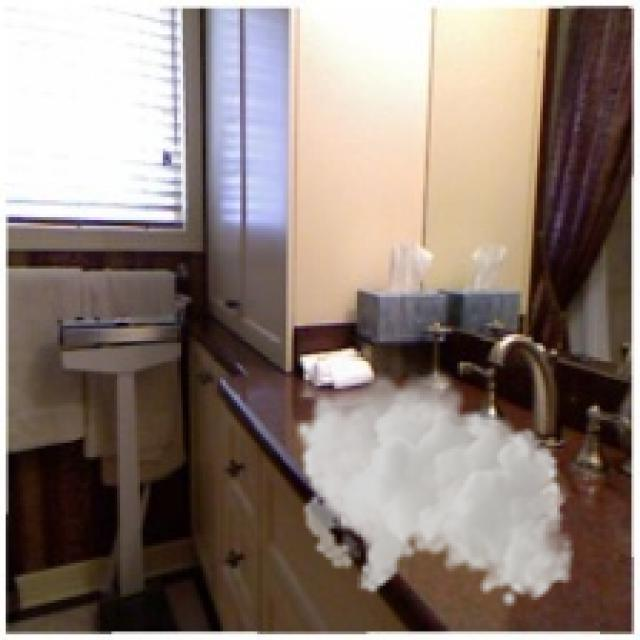Smoke: (294, 362, 574, 608)
